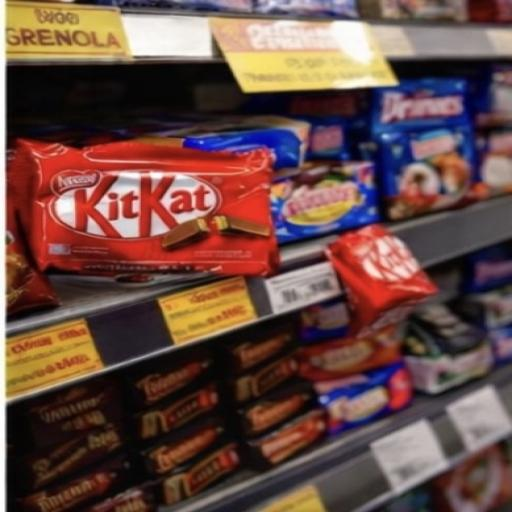kitkat: (4, 116, 312, 338)
